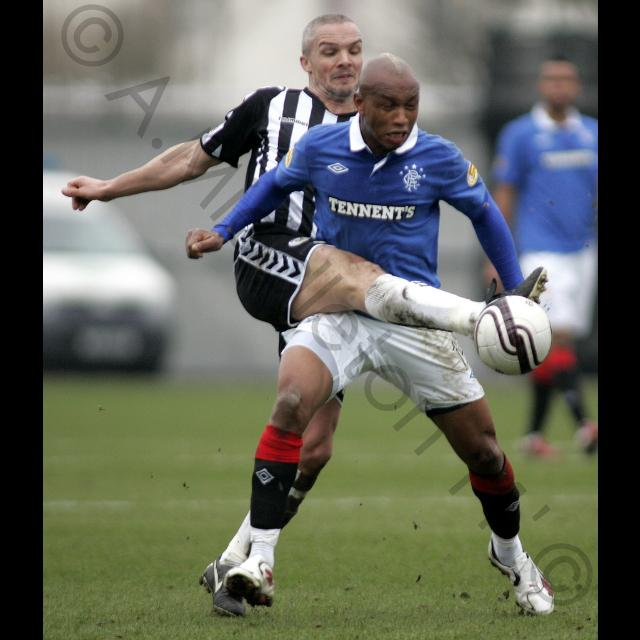Football: (472, 294, 552, 376)
